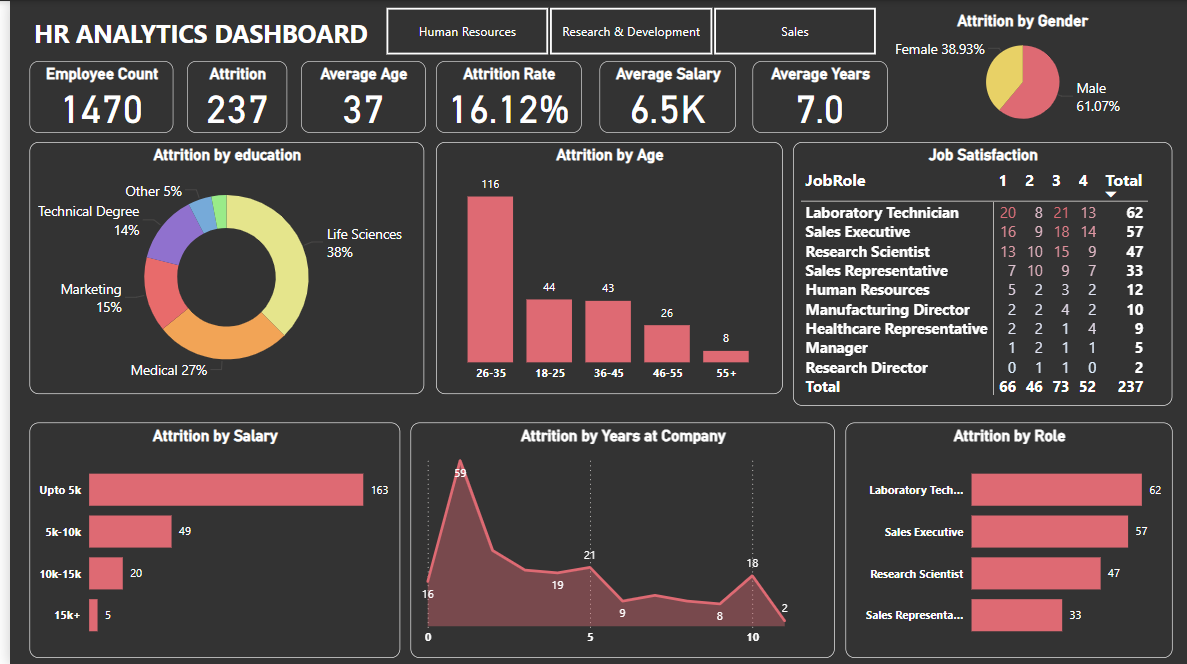

The page's visual inventory and layout, read from the dashboard file:
{"tool":"powerbi","page":{"name":"Page 1","canvas":[1280,720],"ordinal":0},"visuals":[{"type":"card","title":"Attrition Rate","fields":{"Values":["powerbidata.AttritionRate"]},"box":[461.9,65.1,157.8,78.1],"z":0},{"type":"card","title":"Average Age","fields":{"Values":["Avg(powerbidata.Age)"]},"box":[315.5,65.1,135,78.1],"z":1000},{"type":"card","title":"Attrition","fields":{"Values":["Sum(powerbidata.AttritionCount)"]},"box":[191.9,65.1,109,78.1],"z":2000},{"type":"card","title":"Employee Count","fields":{"Values":["CountNonNull(powerbidata.EmpID)"]},"box":[21.1,65.1,156.1,78.1],"z":3000},{"type":"card","title":"Average Salary","fields":{"Values":["Avg(powerbidata.MonthlyIncome)"]},"box":[639.2,65.1,148,78.1],"z":4000},{"type":"card","title":"Average Years ","fields":{"Values":["Avg(powerbidata.YearsAtCompany)"]},"box":[805.1,65.1,146.4,78.1],"z":5000},{"type":"donutChart","title":"Attrition by education","fields":{"Category":["powerbidata.EducationField"],"Y":["Sum(powerbidata.AttritionCount)"]},"box":[21.1,152.4,427.8,273.3],"z":6000},{"type":"columnChart","title":"Attrition by Age","fields":{"Category":["powerbidata.AgeGroup"],"Y":["Sum(powerbidata.AttritionCount)"]},"box":[461.9,152.9,375.7,273.3],"z":7000},{"type":"pivotTable","title":"Job Satisfaction","fields":{"Rows":["powerbidata.JobRole"],"Columns":["powerbidata.JobSatisfaction"],"Values":["Sum(powerbidata.AttritionCount)"]},"box":[849.1,152.4,411.5,286.3],"z":8000},{"type":"barChart","title":"Attrition by Salary","fields":{"Category":["powerbidata.SalarySlab"],"Y":["Sum(powerbidata.AttritionCount)"]},"box":[21.1,456.6,401.8,255.4],"z":9000},{"type":"barChart","title":"Attrition by Role","fields":{"Category":["powerbidata.JobRole"],"Y":["Sum(powerbidata.AttritionCount)"]},"box":[906,456.6,354.6,255.4],"z":10000},{"type":"areaChart","title":"Attrition by Years at Company","fields":{"Category":["powerbidata.YearsAtCompany"],"Y":["Sum(powerbidata.AttritionCount)"]},"box":[434.3,456.6,460.3,255.4],"z":11000},{"type":"pieChart","title":"Attrition by Gender","fields":{"Category":["powerbidata.Gender"],"Y":["CountNonNull(powerbidata.Attrition)"]},"box":[935.3,11.4,325.3,131.8],"z":12000},{"type":"slicer","fields":{"Values":["powerbidata.Department"]},"box":[382.2,0,580.7,65.1],"z":13000},{"type":"textbox","box":[21.1,11.4,383.9,53.7],"z":14000}]}

Visuals, with their boxes in screenshot pixels (x1, y1, x2, y2), scaled from the page's 1280x720 canvas onto the 1187x664 screenshot:
"Attrition Rate" card: l=428, t=60, r=575, b=132
"Average Age" card: l=293, t=60, r=418, b=132
"Attrition" card: l=178, t=60, r=279, b=132
"Employee Count" card: l=20, t=60, r=164, b=132
"Average Salary" card: l=593, t=60, r=730, b=132
"Average Years " card: l=747, t=60, r=882, b=132
"Attrition by education" donutChart: l=20, t=141, r=416, b=393
"Attrition by Age" columnChart: l=428, t=141, r=777, b=393
"Job Satisfaction" pivotTable: l=787, t=141, r=1169, b=405
"Attrition by Salary" barChart: l=20, t=421, r=392, b=657
"Attrition by Role" barChart: l=840, t=421, r=1169, b=657
"Attrition by Years at Company" areaChart: l=403, t=421, r=830, b=657
"Attrition by Gender" pieChart: l=867, t=11, r=1169, b=132
slicer - powerbidata.Department: l=354, t=0, r=893, b=60
textbox: l=20, t=11, r=376, b=60
